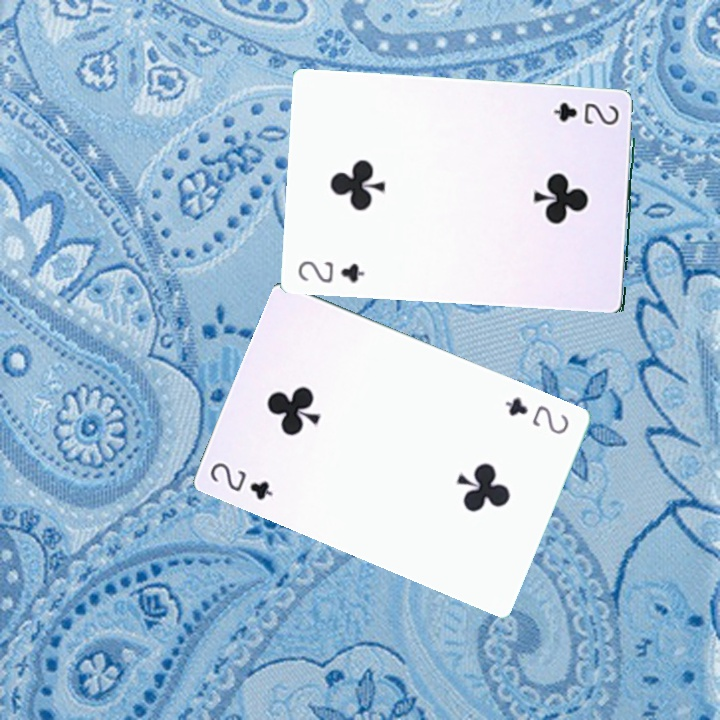2c: (501, 392, 572, 437), (206, 458, 276, 503), (293, 256, 367, 286), (549, 99, 622, 128)
